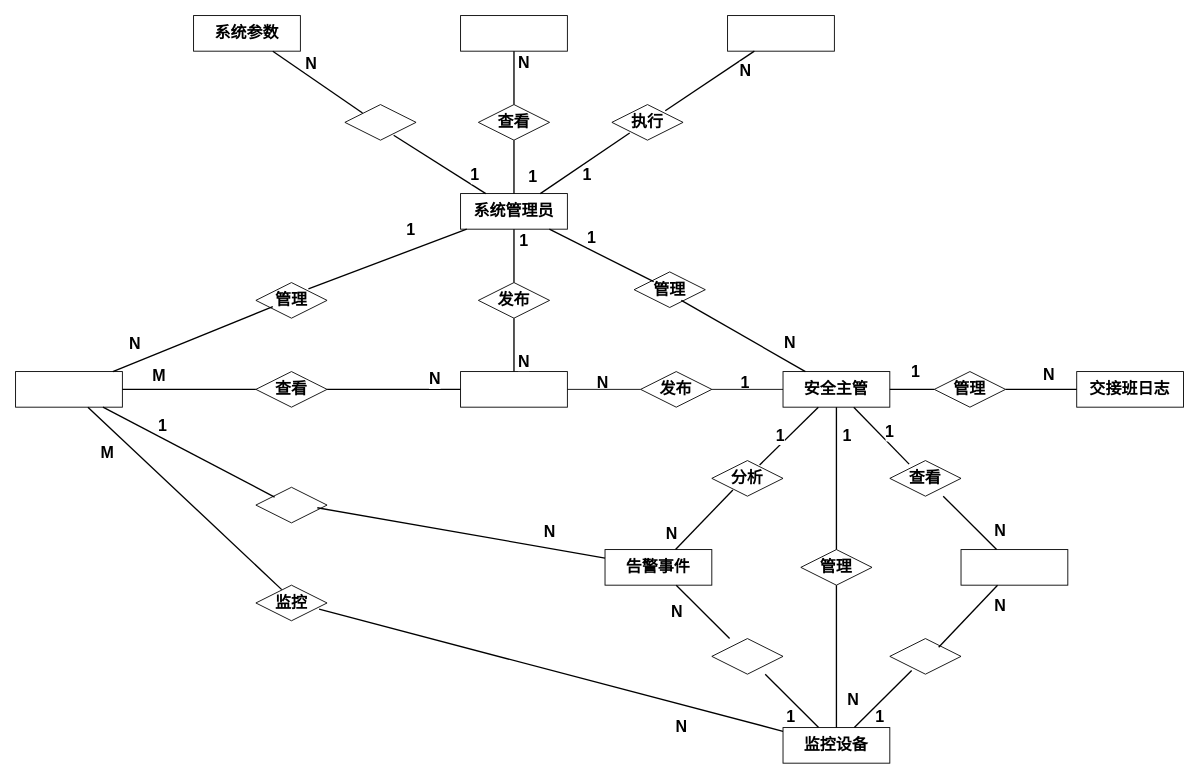
Image size: 1200x779. Some labels were removed from this diagram. The box of each missing label's shape, as (x1, y1, x2, y2) in pixels:
SOP与公告: (460, 371, 567, 407)
产生: (889, 638, 961, 674)
处置: (255, 486, 327, 523)
安全操作员: (15, 371, 122, 407)
数据备份: (727, 15, 834, 51)
系统日志: (460, 15, 567, 51)
触发: (711, 638, 783, 674)
设备日志: (960, 549, 1068, 585)
配置: (344, 104, 416, 140)
